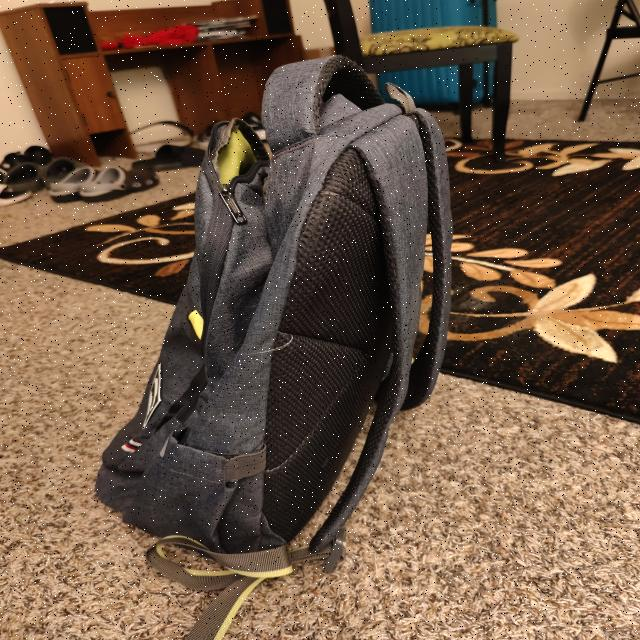bag: (130, 58, 442, 584), (376, 545, 386, 555)
